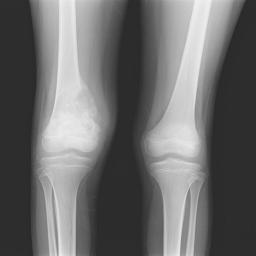cancer: (51, 73, 106, 145)
